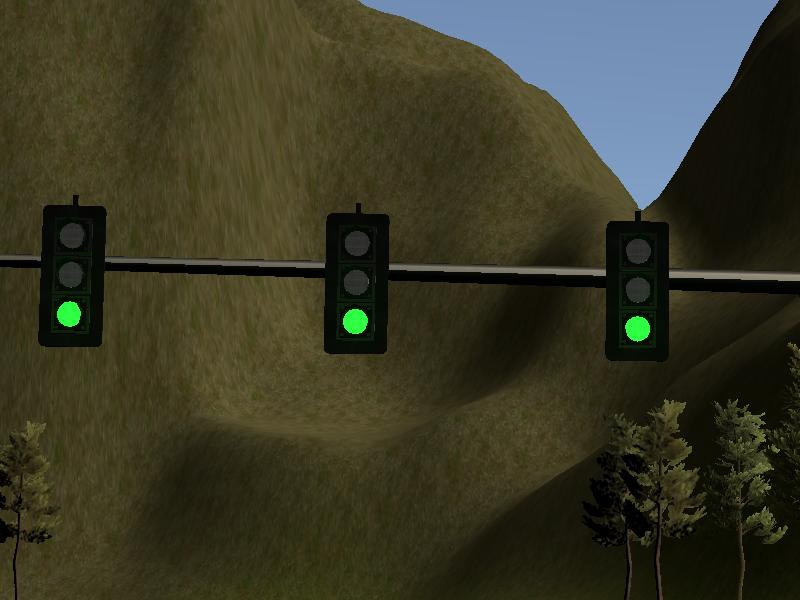green_light: (608, 224, 668, 358), (327, 217, 385, 352), (44, 209, 101, 345)
